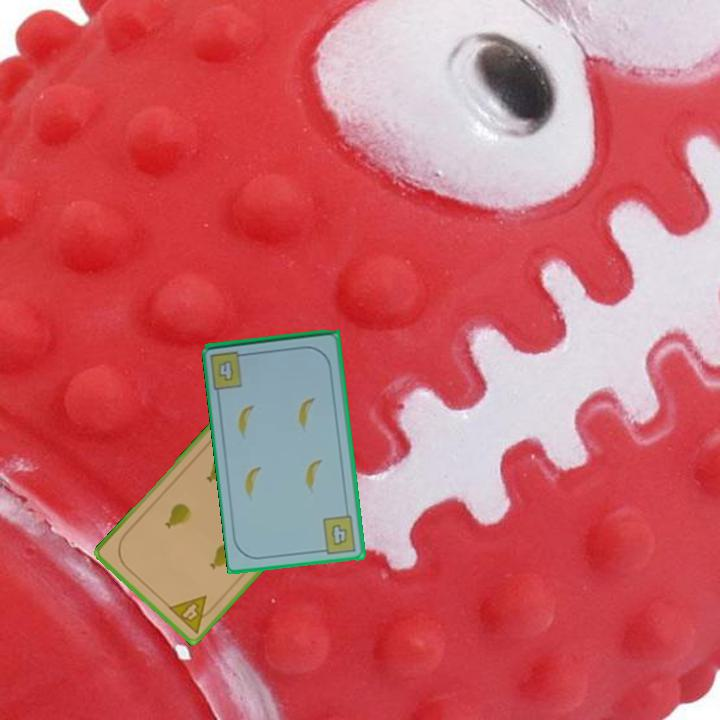4b: (207, 347, 251, 392), (316, 512, 359, 557)
4p: (165, 592, 219, 636)
